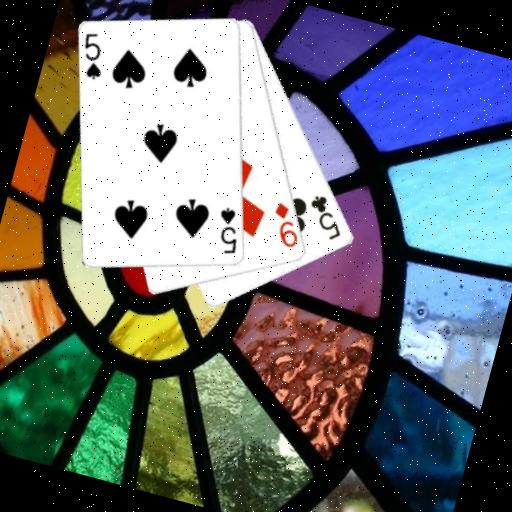5C: (299, 189, 351, 244)
5S: (71, 26, 113, 83), (207, 202, 249, 258)
9D: (263, 197, 309, 251)
